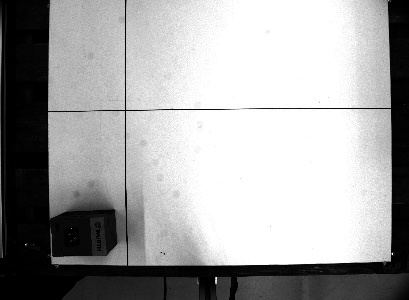b4: (47, 207, 120, 259)
